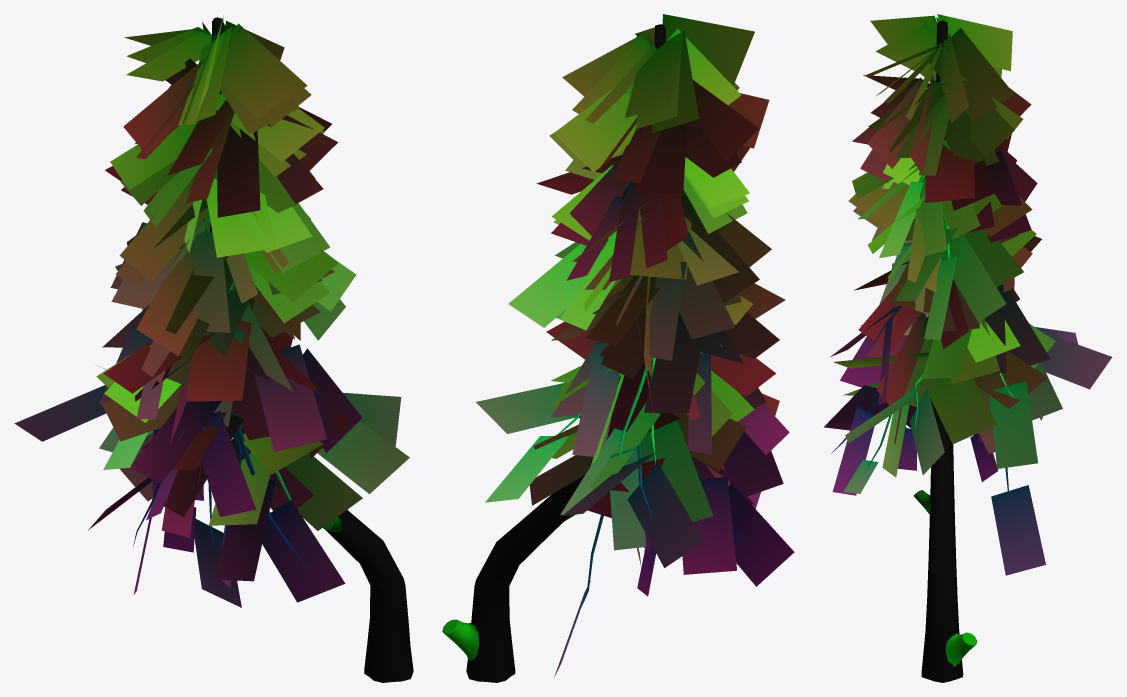
The model's file is M_Pine_3_15.fbx.
The picture shows the model from 3 angles, left to right: view 1: azimuth 30°, elevation 25°; view 2: azimuth 150°, elevation 25°; view 3: azimuth 270°, elevation 25°; orthographic projection. The views are drawn at different scales.
Parts seen in each view (by area): view 1: Tree_15; view 2: Tree_15; view 3: Tree_15.
Boxes of the visible parts, x1=… form: Tree_15: x1=14, y1=15, x2=413, y2=682; Tree_15: x1=442, y1=14, x2=794, y2=682; Tree_15: x1=824, y1=14, x2=1112, y2=682.
Bounding box in the file's own units: 1727 × 3546 × 1579.
